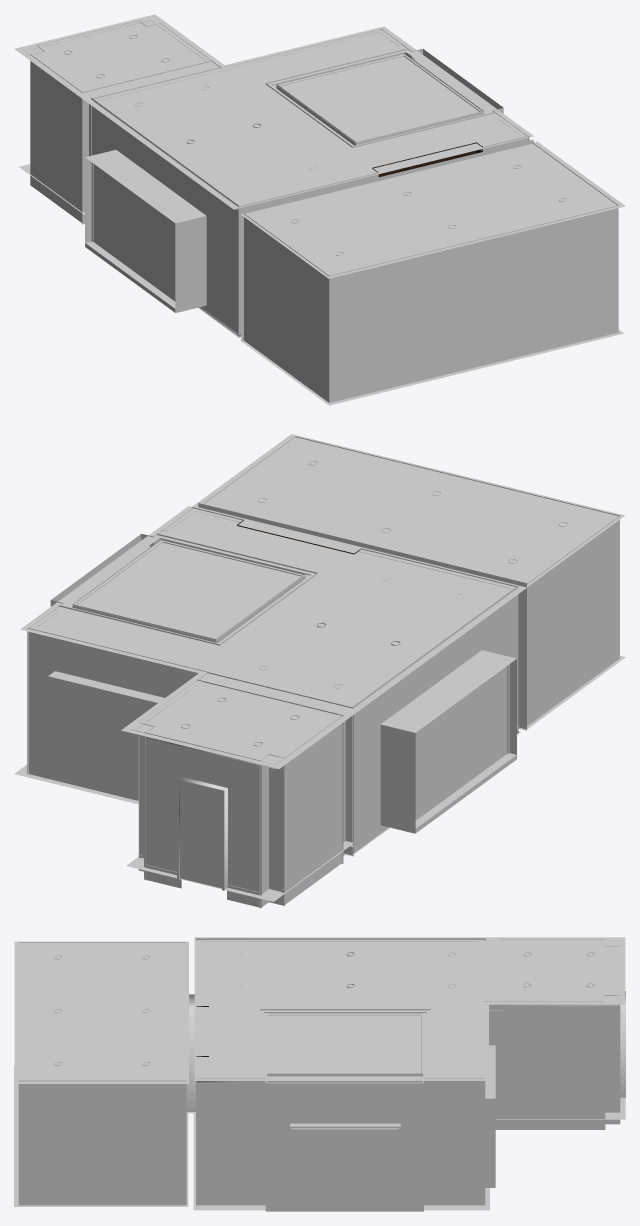
File: habitacion-vip.fbx
3 views of the same model, one above another, from view 1: azimuth 30°, elevation 25°; view 2: azimuth 150°, elevation 25°; view 3: azimuth 270°, elevation 25° (orthographic). The views are drawn at different scales.
Parts seen in each view (by area): view 1: Object004, Plane002, Plane001, Object003, Box006, Box001, Box005, Object005, Line001, Object008, Rectangle003, Object007 (+6 smaller); view 2: Plane002, Plane001, Object003, Object004, Box006, Object001, Object042, Box001, Object002, Box005, Box002, Box008 (+13 smaller); view 3: Plane002, Box001, Plane001, Object004, Object002, Box006, Object007, Object041, Object008, Line001, Box002, Box004 (+7 smaller).
Part boxes in pixels (left/top/right/bottom): Object004: left=244, top=143, right=618, bottom=402; Plane002: left=14, top=14, right=533, bottom=209; Plane001: left=240, top=141, right=625, bottom=278; Object003: left=85, top=97, right=238, bottom=336; Box006: left=281, top=56, right=479, bottom=141; Box001: left=30, top=29, right=528, bottom=223; Box005: left=93, top=164, right=175, bottom=301; Object005: left=238, top=135, right=533, bottom=341; Line001: left=23, top=17, right=526, bottom=210; Object008: left=24, top=18, right=525, bottom=206; Rectangle003: left=276, top=54, right=484, bottom=145; Object007: left=198, top=307, right=624, bottom=405; Plane002: left=20, top=506, right=525, bottom=768; Plane001: left=192, top=434, right=624, bottom=588; Object003: left=352, top=585, right=518, bottom=850; Object004: left=203, top=436, right=619, bottom=726; Box006: left=77, top=542, right=300, bottom=638; Object001: left=144, top=732, right=261, bottom=907; Object042: left=48, top=676, right=157, bottom=800; Box001: left=28, top=508, right=342, bottom=905; Object002: left=27, top=628, right=207, bottom=869; Box005: left=415, top=666, right=507, bottom=820; Box002: left=139, top=722, right=284, bottom=908; Box008: left=180, top=782, right=221, bottom=888; Plane002: left=194, top=937, right=625, bottom=1080; Box001: left=196, top=939, right=604, bottom=1211; Plane001: left=14, top=941, right=188, bottom=1083; Object004: left=18, top=942, right=186, bottom=1205; Object002: left=484, top=1001, right=605, bottom=1187; Box006: left=269, top=1015, right=420, bottom=1073; Object007: left=14, top=1065, right=489, bottom=1210; Object041: left=291, top=1129, right=399, bottom=1149; Object008: left=197, top=940, right=618, bottom=1077; Line001: left=197, top=940, right=619, bottom=1082; Box002: left=604, top=946, right=620, bottom=1124; Box004: left=264, top=1012, right=426, bottom=1083.
Bounding box in the file's own units: 848 × 317 × 1346.
Materials: 1 (1 with a texture image).
